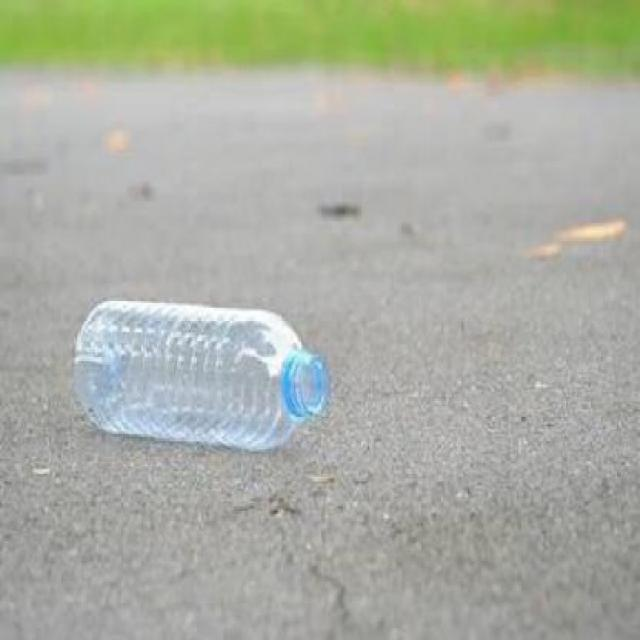bottle: (68, 295, 339, 464)
